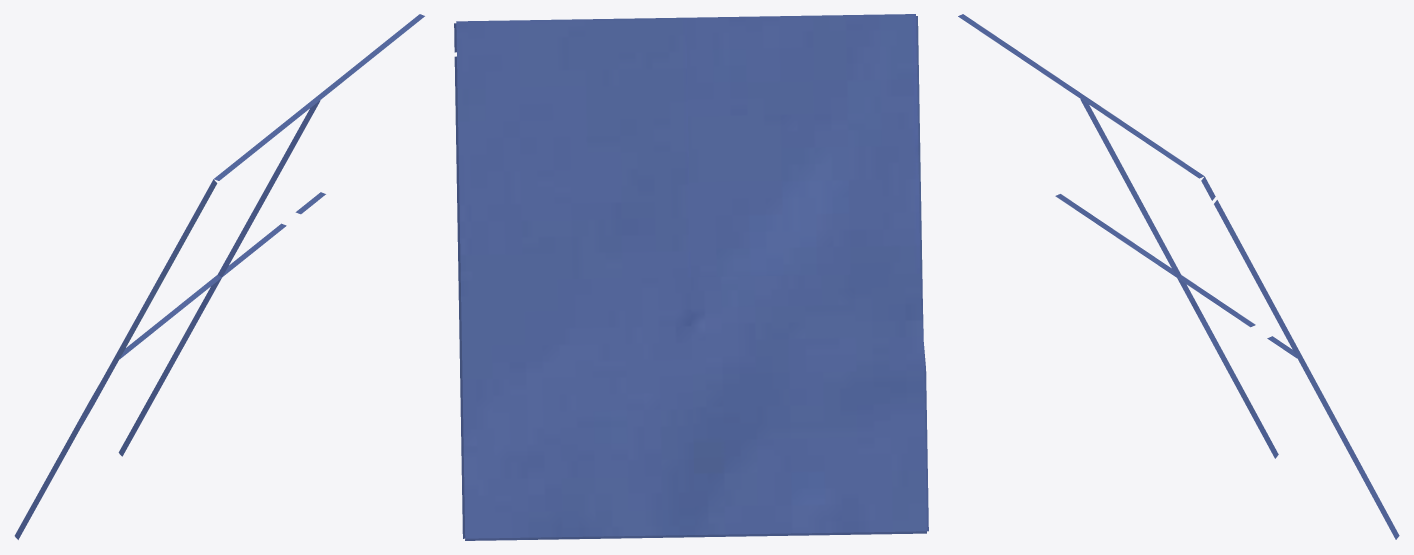
3 views of the same model, side by side, from view 1: azimuth 30°, elevation 25°; view 2: azimuth 150°, elevation 25°; view 3: azimuth 270°, elevation 25° (orthographic). The views are drawn at different scales.
Size of the model in its own units: 39530 by 35316 by 34066.
1 material, 1 textured.
